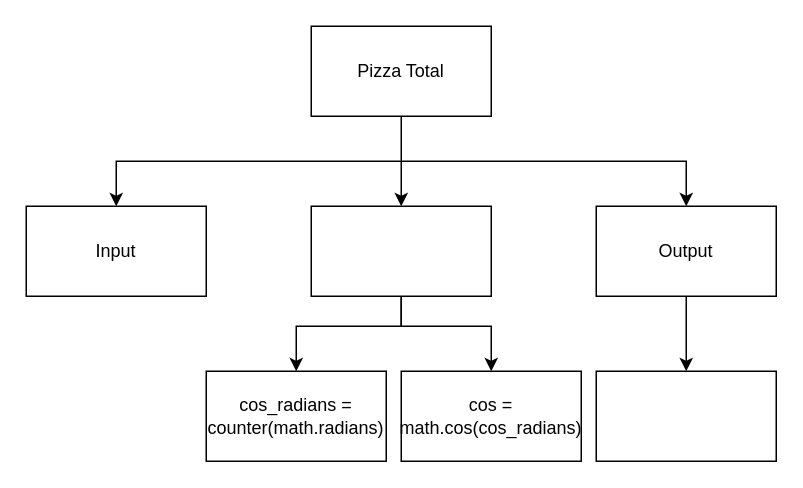
This 803x488 diagram has some shape labels left out. Each missing label, with the centre of its shape:
Print" Cos {counter}° : {cos_radians}": [685,415]
Process: [400,250]
